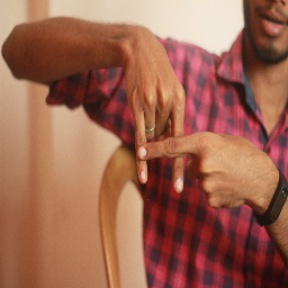H: (111, 89, 214, 213)
